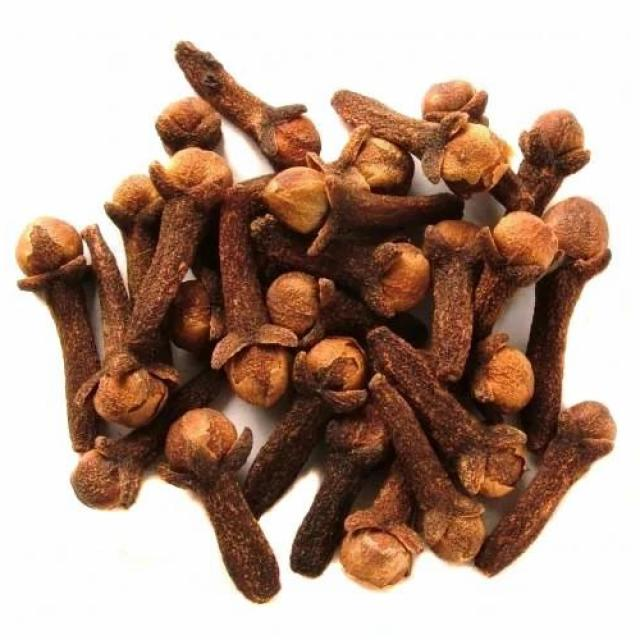clove: (16, 42, 615, 602)
